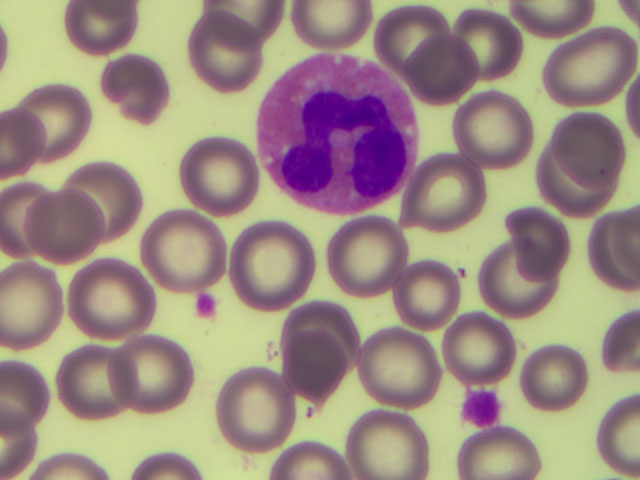Platelets: (461, 387, 504, 429), (192, 289, 217, 320)
RBC: (94, 51, 176, 127), (187, 23, 269, 99), (409, 39, 491, 115), (458, 11, 540, 87), (554, 26, 636, 102), (552, 107, 634, 183), (456, 92, 538, 168), (409, 158, 491, 234), (490, 202, 572, 278), (474, 249, 556, 325), (391, 256, 473, 332), (322, 217, 404, 293), (229, 225, 311, 301), (150, 213, 232, 289), (174, 143, 256, 219), (84, 154, 166, 230), (17, 178, 99, 254), (5, 103, 87, 179), (22, 79, 104, 155), (1, 262, 83, 338), (70, 258, 152, 334), (117, 343, 199, 419), (55, 345, 137, 421), (1, 362, 83, 438), (217, 371, 299, 447), (276, 336, 358, 412), (285, 291, 367, 367), (356, 329, 438, 405), (350, 404, 432, 480), (272, 404, 354, 480), (517, 332, 599, 408), (443, 305, 525, 381), (558, 215, 640, 291), (527, 148, 609, 224), (372, 1, 454, 76), (451, 424, 553, 480), (56, 1, 137, 60), (291, 1, 364, 47), (206, 1, 282, 32)
WBC: (255, 55, 421, 208)
